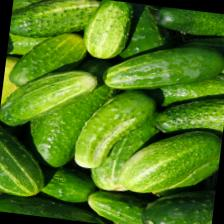cucumber: (114, 119, 223, 202), (68, 82, 158, 174), (100, 34, 224, 100), (0, 59, 99, 136), (6, 24, 90, 94), (8, 0, 105, 45), (79, 0, 133, 61)
